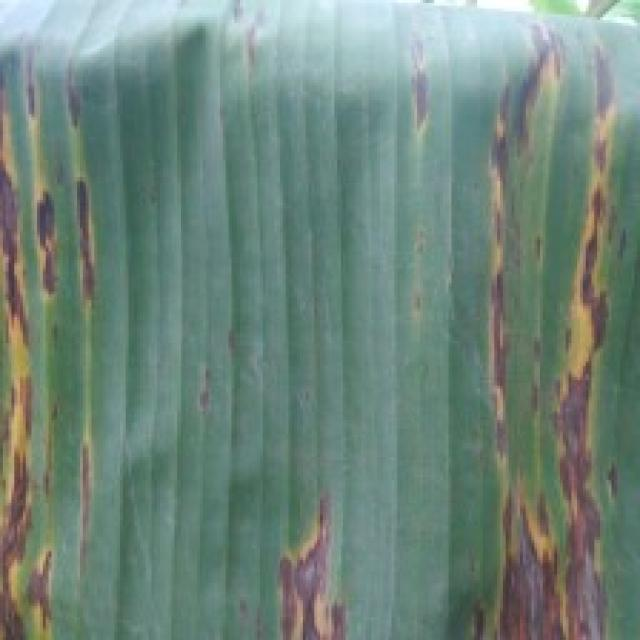Early_leaf_spot: (465, 0, 640, 640), (0, 8, 123, 640), (244, 483, 365, 640), (392, 9, 452, 146), (396, 210, 446, 346), (233, 5, 305, 97), (179, 360, 226, 430)
